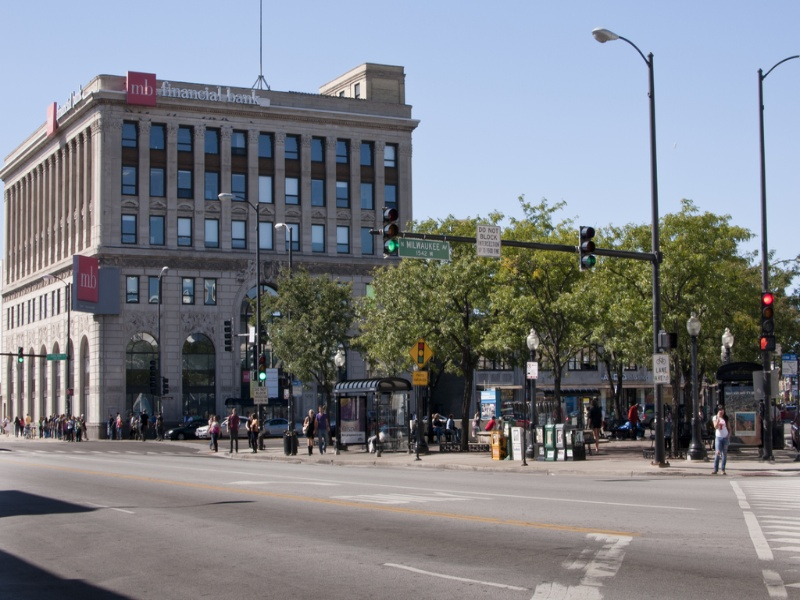green_light: (379, 235, 407, 264)
red_light: (752, 290, 782, 313)
